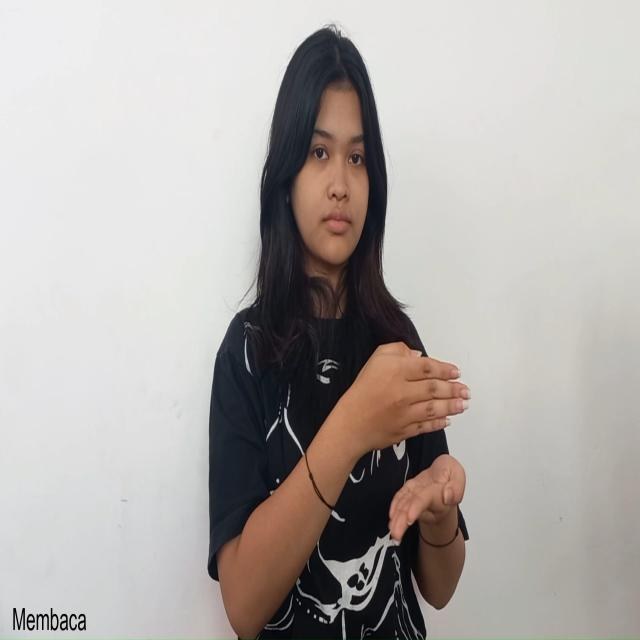Membaca -BISINDO-: (352, 340, 472, 547)
